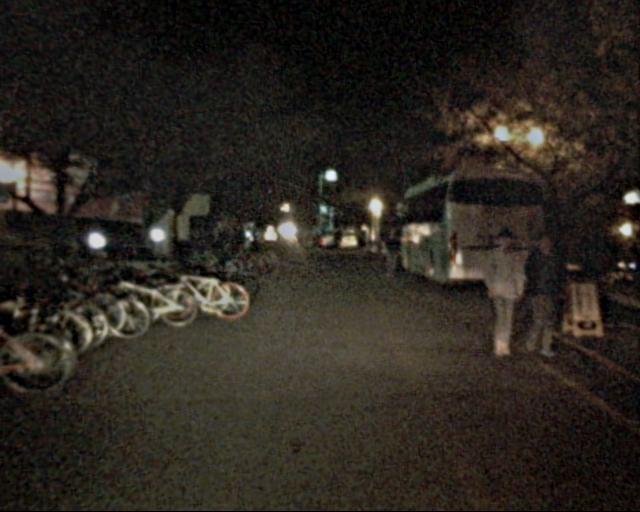person: (476, 231, 528, 359), (515, 235, 566, 360), (378, 226, 403, 288), (251, 229, 265, 264)
